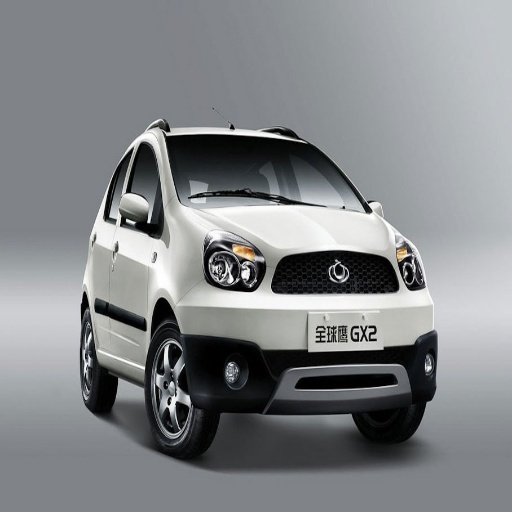front_bumper: (189, 241, 437, 409)
front_right_door: (111, 132, 164, 363), (306, 151, 364, 215)
front_right_light: (207, 230, 263, 288)
